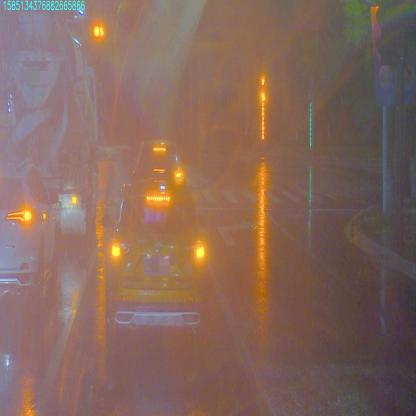traffic-light: (93, 25, 104, 41)
